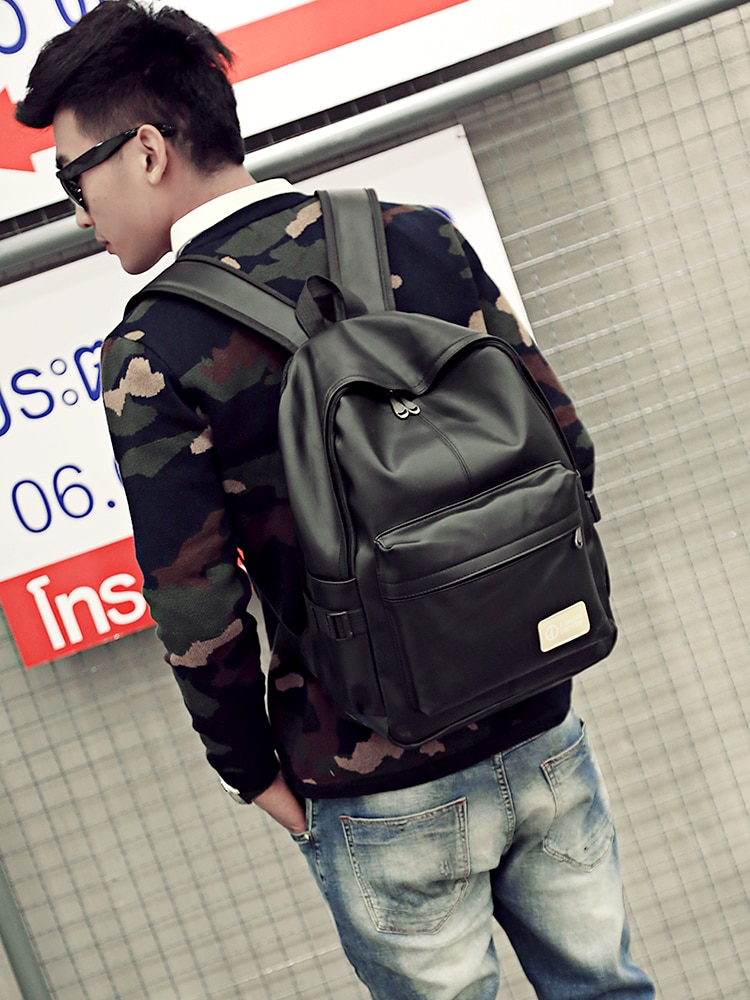Accessories|Sunglasses & Eyewears: (49, 123, 156, 202)
Accessories|Watches: (217, 762, 281, 806)
Bottoms|Pants: (297, 714, 625, 1000)
Men's Backpacks: (233, 263, 615, 738)
Tops: (69, 190, 574, 795)
